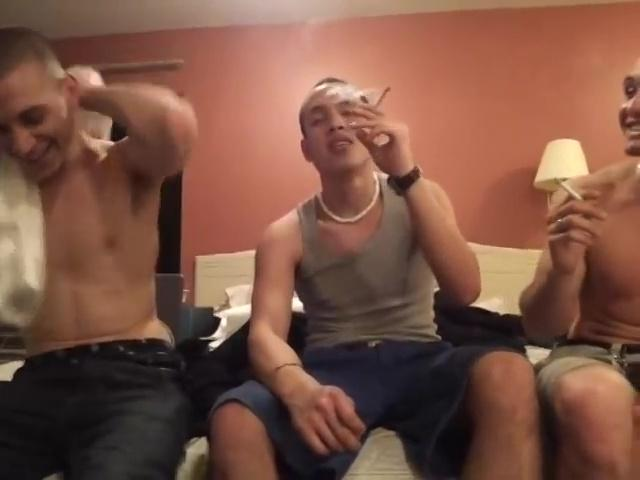cigarette: (554, 174, 593, 204), (373, 86, 393, 111)
